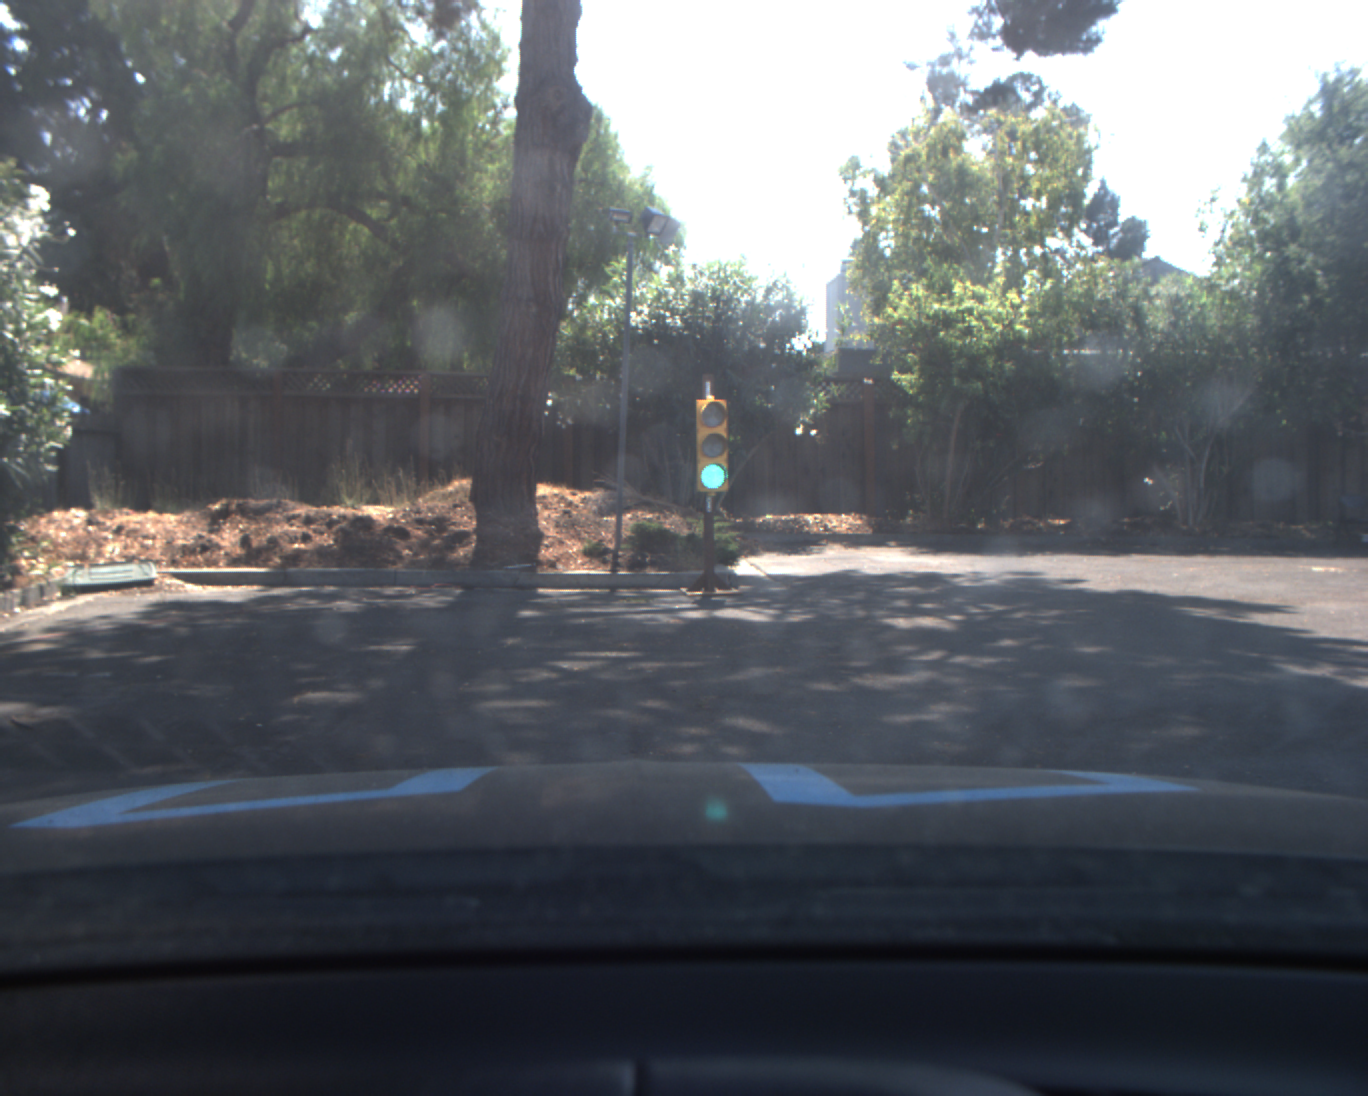green: (698, 398, 732, 491)
